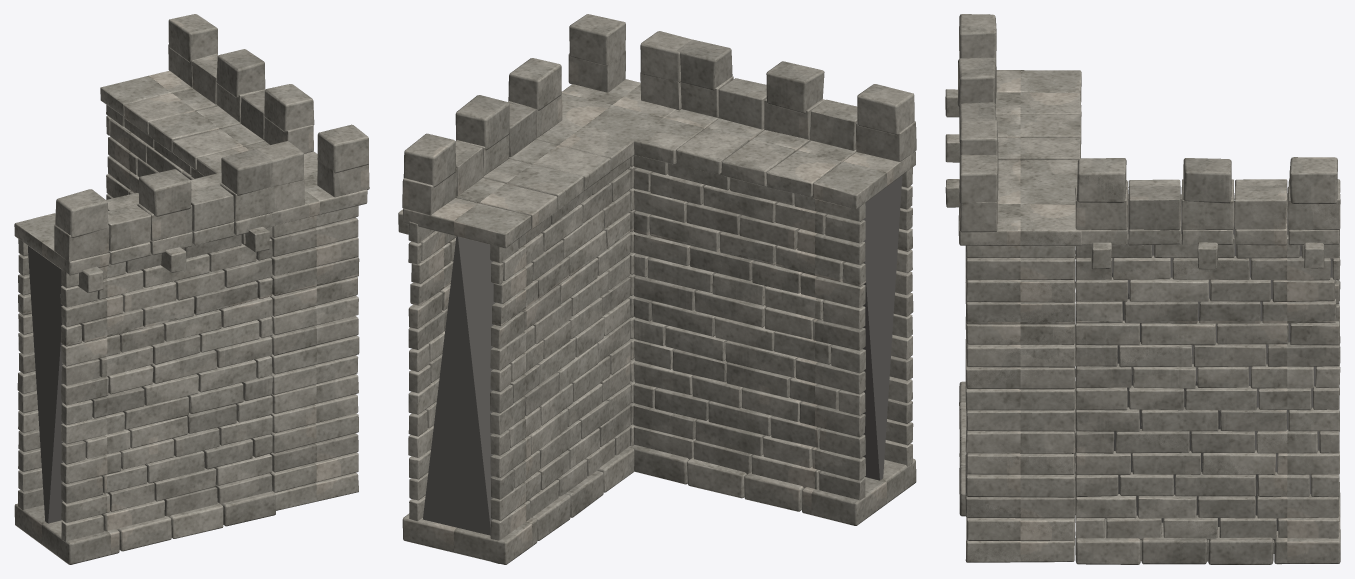
Rendered from wall_corner-LOD1.glb.
3 renders of one model, left to right at view 1: azimuth 30°, elevation 25°; view 2: azimuth 150°, elevation 25°; view 3: azimuth 270°, elevation 25°, orthographic. The views are drawn at different scales.
Visible parts, largest first — view 1: Bonded ashlar course.002, Bonded ashlar course.003, Bonded ashlar course.011, Bonded ashlar course, Bonded ashlar course.001, Walkway dressed coping, Bonded ashlar course.009, Masonry recessed structural backing; view 2: Bonded ashlar course.003, Bonded ashlar course.011, Walkway dressed coping, Bonded ashlar course.001, Bonded ashlar course.009, Bonded ashlar course, Masonry recessed structural backing, Bonded ashlar course.002; view 3: Bonded ashlar course.011, Bonded ashlar course.003, Walkway dressed coping, Bonded ashlar course.001, Bonded ashlar course.002, Bonded ashlar course, Bonded ashlar course.009, Masonry recessed structural backing.
Boxes of the visible parts, box(x1,y1,x2,y2) form: Bonded ashlar course.002: box(18, 83, 358, 542); Bonded ashlar course.003: box(14, 49, 369, 564); Bonded ashlar course.011: box(18, 14, 358, 551); Bonded ashlar course: box(18, 105, 368, 561); Bonded ashlar course.001: box(17, 84, 359, 531); Walkway dressed coping: box(14, 70, 367, 292); Bonded ashlar course.009: box(18, 90, 359, 516); Masonry recessed structural backing: box(28, 246, 63, 523); Bonded ashlar course.003: box(408, 51, 916, 540); Bonded ashlar course.011: box(402, 31, 912, 517); Walkway dressed coping: box(398, 79, 915, 248); Bonded ashlar course.001: box(409, 58, 914, 540); Bonded ashlar course.009: box(408, 39, 912, 563); Bonded ashlar course: box(402, 14, 913, 564); Masonry recessed structural backing: box(423, 175, 902, 535); Bonded ashlar course.002: box(408, 72, 912, 498); Bonded ashlar course.011: box(959, 120, 1340, 564); Bonded ashlar course.003: box(957, 57, 1340, 564); Walkway dressed coping: box(945, 70, 1340, 269); Bonded ashlar course.001: box(959, 14, 1340, 539); Bonded ashlar course.002: box(959, 186, 1340, 562); Bonded ashlar course: box(959, 154, 1340, 564); Bonded ashlar course.009: box(959, 102, 1339, 564); Masonry recessed structural backing: box(1105, 200, 1332, 553).
Bounding box in the file's own units: 4.94 × 5.45 × 4.94.
Materials: 8 (7 with a texture image).
